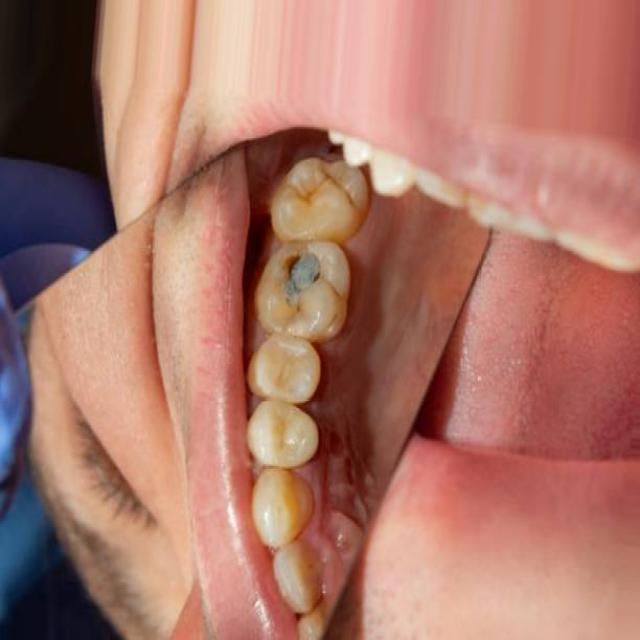caries: (260, 232, 347, 343), (286, 152, 357, 225)
